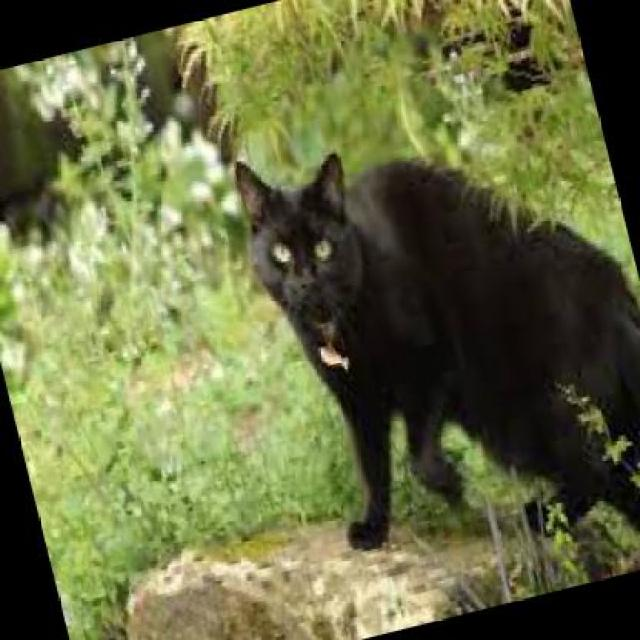animals: (217, 74, 638, 586)
